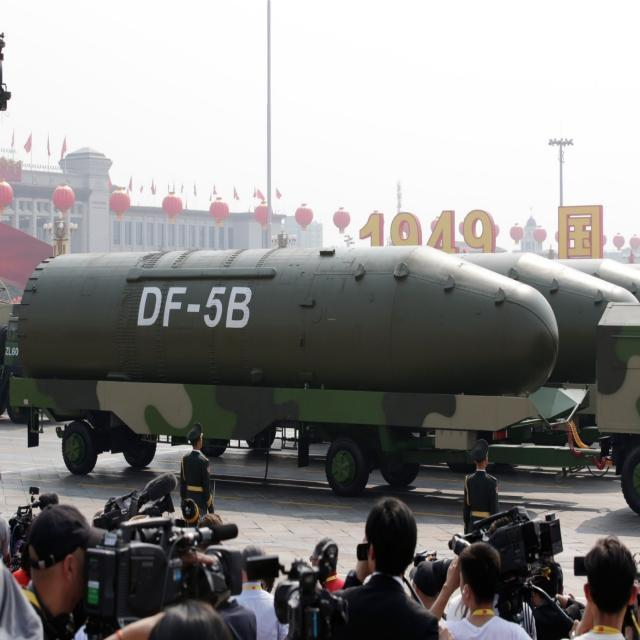Missile: (5, 237, 562, 391)
